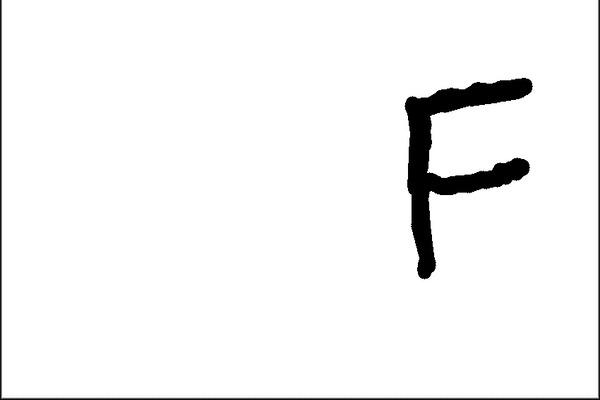F: (398, 74, 535, 282)
